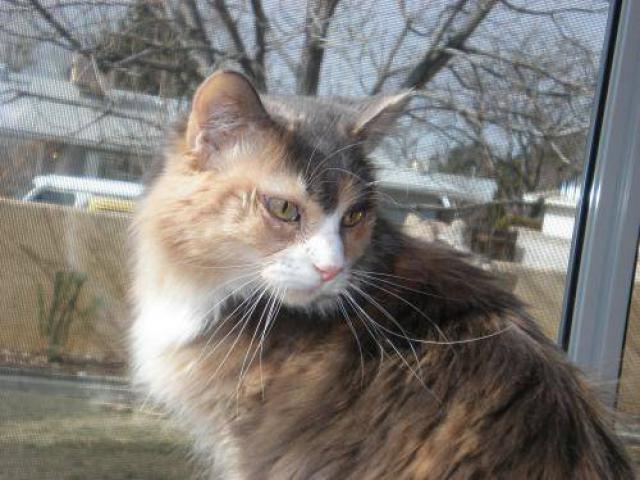cat: (116, 65, 614, 477)
